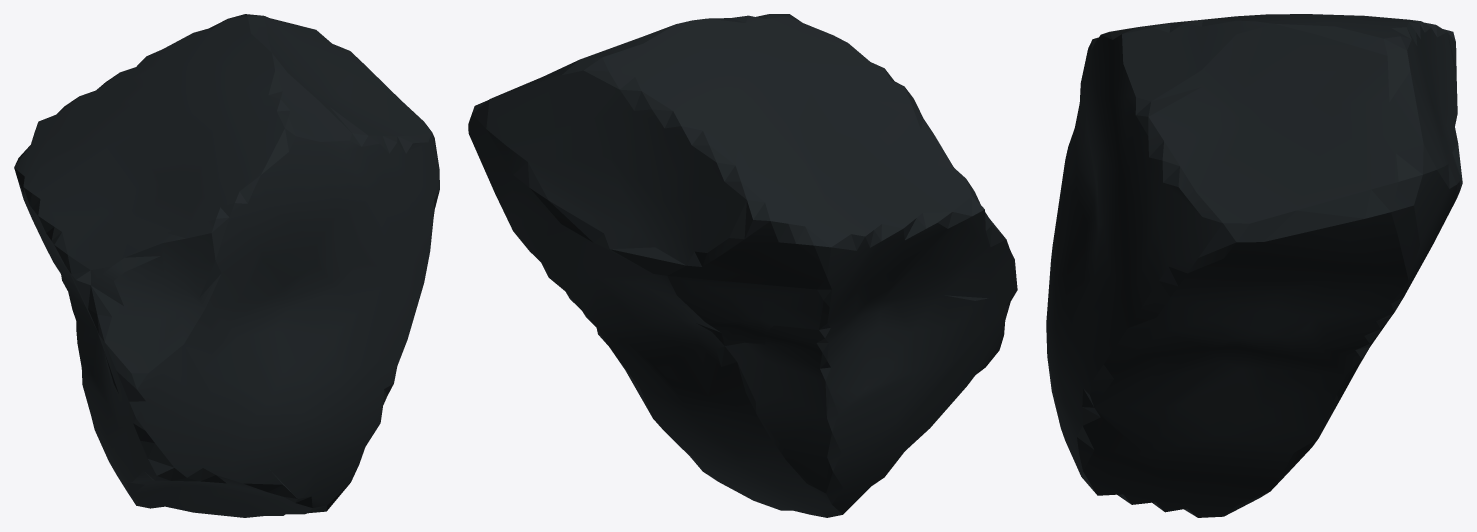
Rendered from Asteroid_l_09.FBX.
3 renders of one model, left to right at view 1: azimuth 30°, elevation 25°; view 2: azimuth 150°, elevation 25°; view 3: azimuth 270°, elevation 25°, orthographic. The views are drawn at different scales.
Visible parts, largest first — view 1: Asteroid_l_09; view 2: Asteroid_l_09; view 3: Asteroid_l_09.
Boxes of the visible parts, box(x1,y1,x2,y2) form: Asteroid_l_09: box(14, 14, 439, 517); Asteroid_l_09: box(468, 14, 1017, 517); Asteroid_l_09: box(1046, 14, 1462, 517).
Size of the model in its own units: 921 by 991 by 717.
